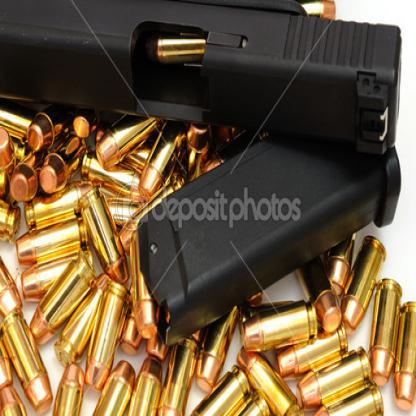gun: (0, 0, 408, 172)
